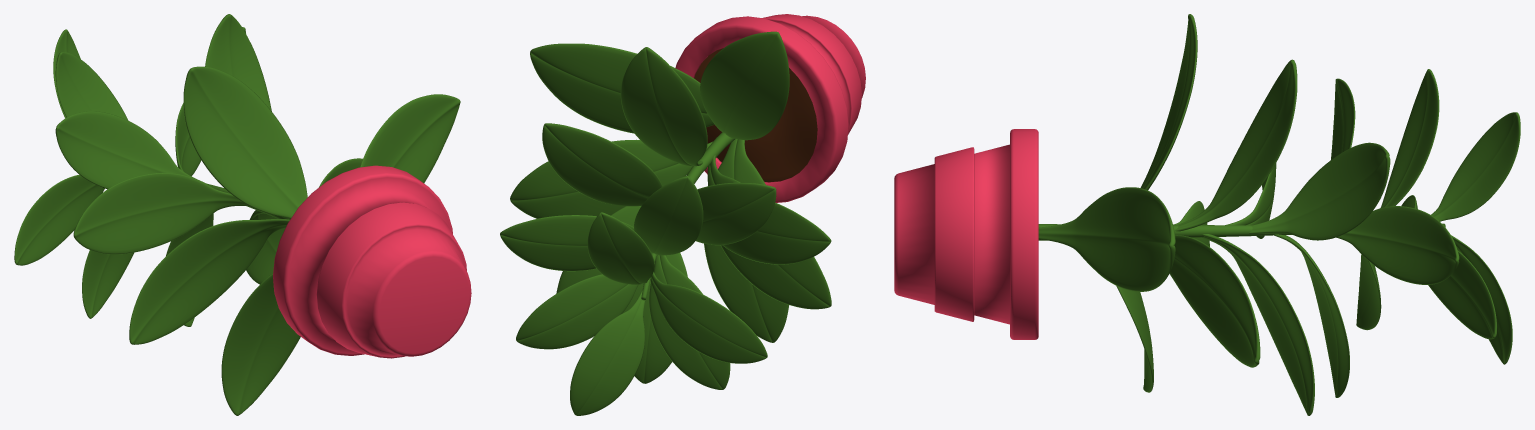
The model's file is Plant.fbx.
The picture shows the model from 3 angles, left to right: view 1: azimuth 30°, elevation 25°; view 2: azimuth 150°, elevation 25°; view 3: azimuth 270°, elevation 25°; orthographic projection. The views are drawn at different scales.
Visible parts, largest first — view 1: Cylinder.006; view 2: Cylinder.006; view 3: Cylinder.006.
Part boxes in pixels (box(x1,y1,x2,y2)): Cylinder.006: box(14, 14, 471, 415); Cylinder.006: box(500, 14, 865, 415); Cylinder.006: box(894, 14, 1520, 415).
Size of the model in its own units: 0.9294 by 0.8671 by 1.36.
